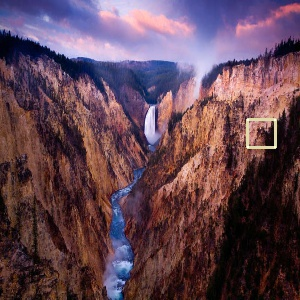square: (245, 116, 278, 149)
